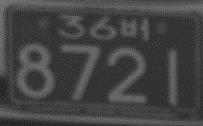1: (156, 46, 189, 107)
2: (106, 45, 148, 105)
3: (57, 13, 85, 40)
6: (89, 13, 117, 41)
7: (60, 43, 102, 102)
8: (15, 41, 56, 100)
버: (119, 16, 150, 42)
